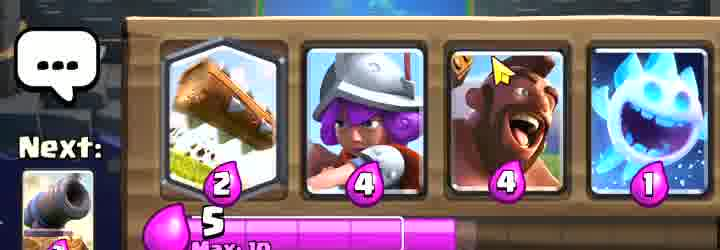cannon: (22, 171, 94, 249)
hog-rider: (449, 56, 555, 200)
ice-spirit: (595, 45, 710, 200)
log: (168, 42, 281, 187)
musketeer: (308, 48, 425, 205)
